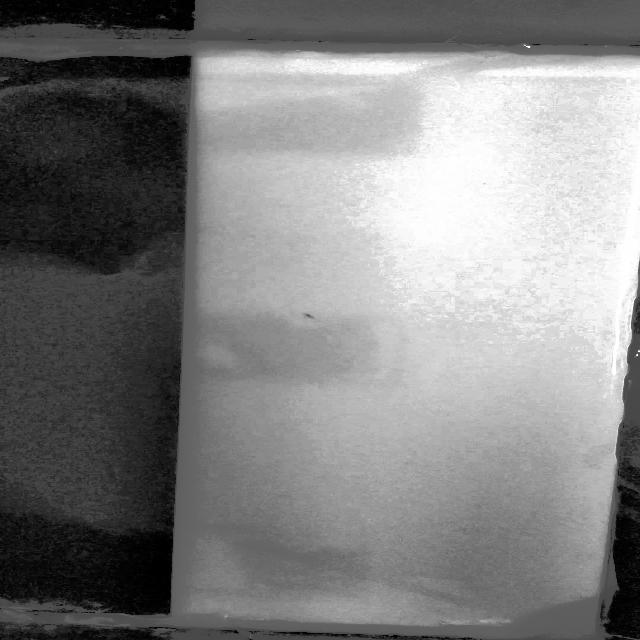shrimp: (292, 310, 322, 322)
